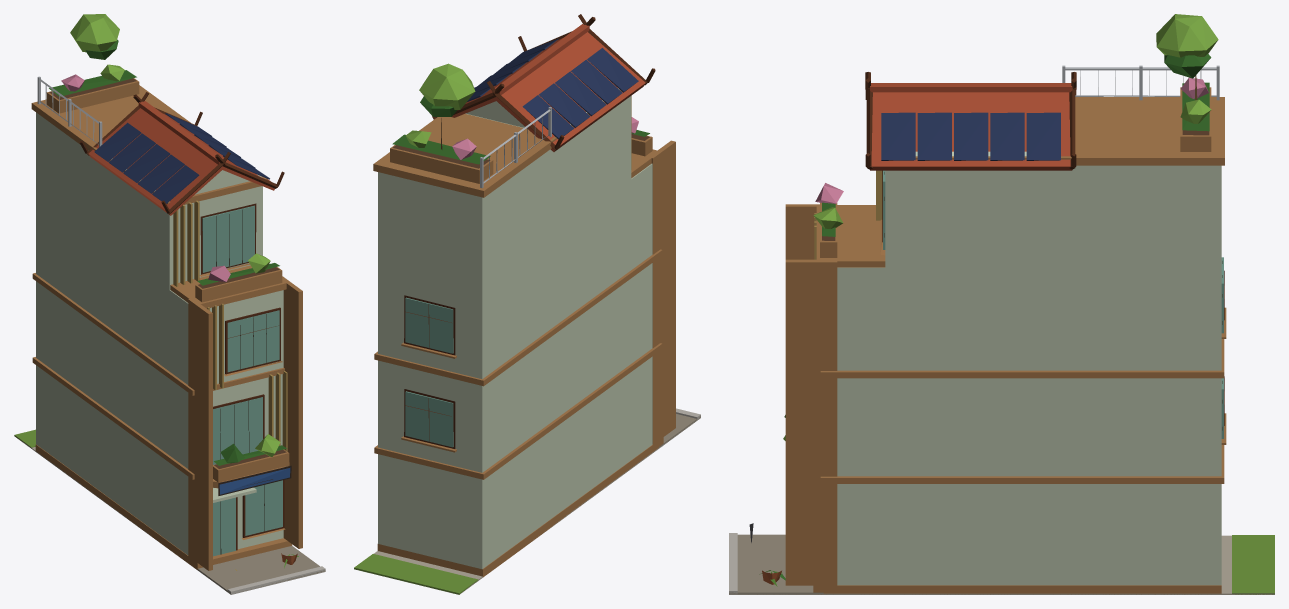
File: bay2_mid.glb
The picture shows the model from 3 angles, left to right: view 1: azimuth 30°, elevation 25°; view 2: azimuth 150°, elevation 25°; view 3: azimuth 270°, elevation 25°; orthographic projection. The views are drawn at different scales.
Visible parts, largest first — view 1: body; view 2: body; view 3: body.
Part boxes in pixels (x1=…): body: x1=14, y1=14, x2=325, y2=594; body: x1=354, y1=14, x2=700, y2=594; body: x1=729, y1=14, x2=1274, y2=594.
Bounding box in the file's own units: 5.23 × 17.63 × 15.9.
